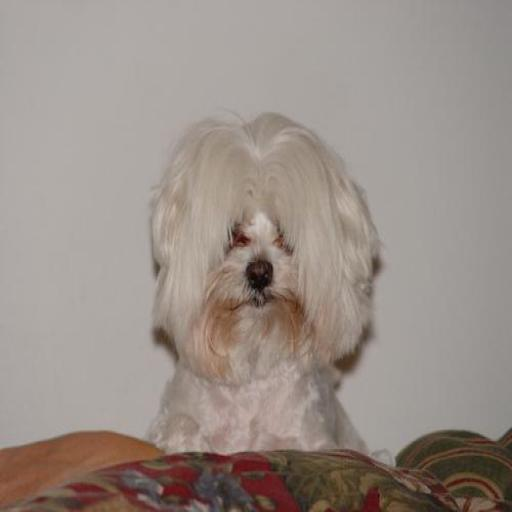dog_face: (142, 115, 372, 390)
